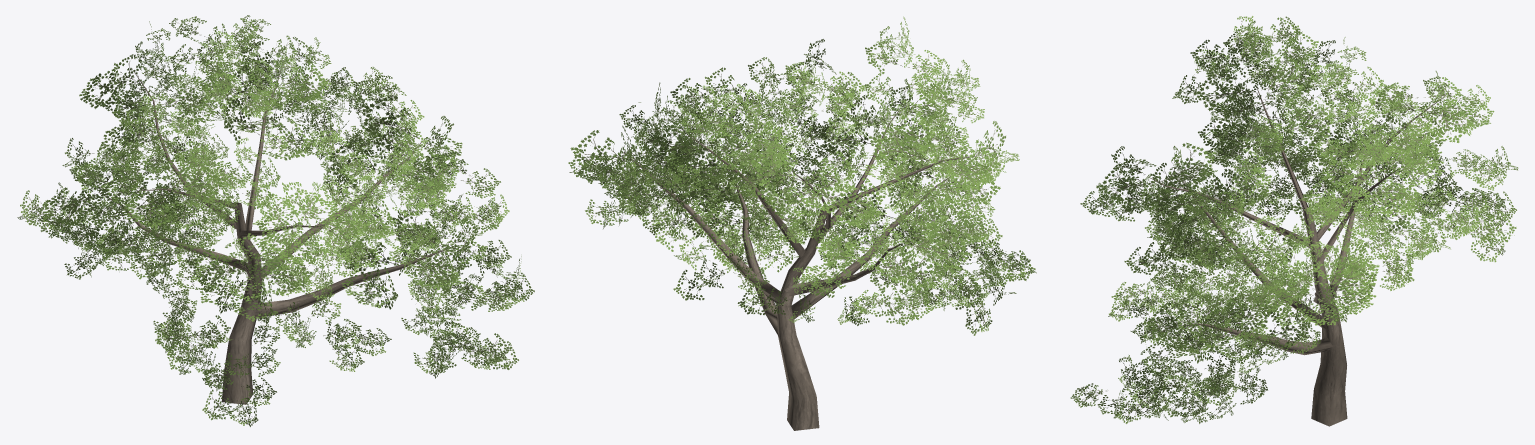
The model's file is tree_Maple_LOD2.fbx.
The picture shows the model from 3 angles, left to right: view 1: azimuth 30°, elevation 25°; view 2: azimuth 150°, elevation 25°; view 3: azimuth 270°, elevation 25°; orthographic projection. The views are drawn at different scales.
Visible parts, largest first — view 1: Maple_LOD2; view 2: Maple_LOD2; view 3: Maple_LOD2.
Boxes of the visible parts, bbox=[...] form: Maple_LOD2: bbox=[17, 15, 534, 426]; Maple_LOD2: bbox=[568, 16, 1036, 430]; Maple_LOD2: bbox=[1070, 16, 1518, 426].
Bounding box in the file's own units: 1512 × 1307 × 1421.
